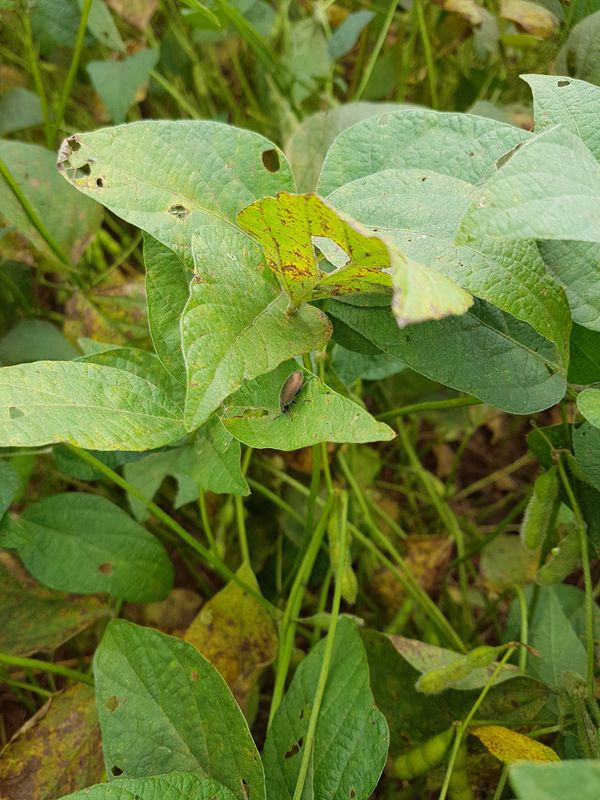Lagria_villosa: (267, 361, 319, 422)
